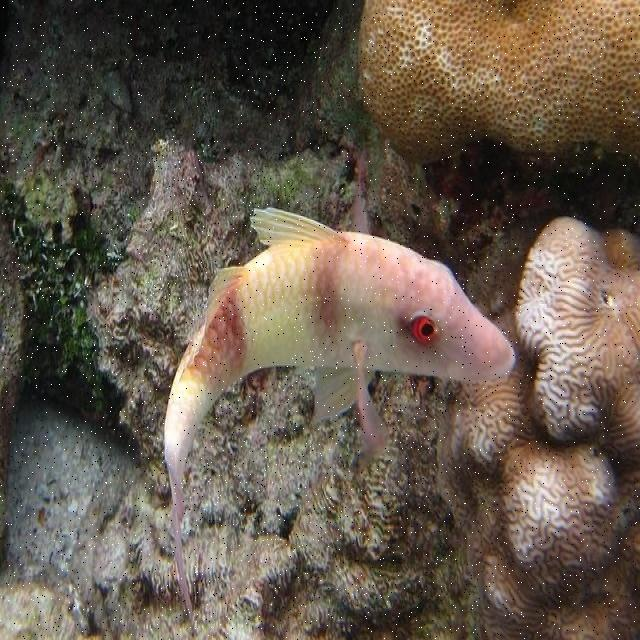fish: (164, 209, 517, 621)
reefs: (438, 302, 639, 637), (357, 0, 639, 172), (516, 217, 638, 464)
